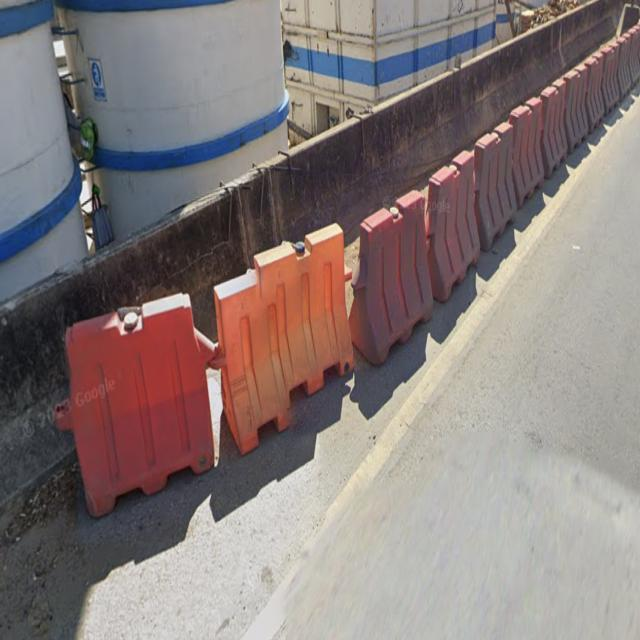fallen_object: (433, 0, 640, 239), (43, 296, 249, 498), (187, 245, 362, 411), (332, 196, 460, 353), (415, 107, 491, 298)
